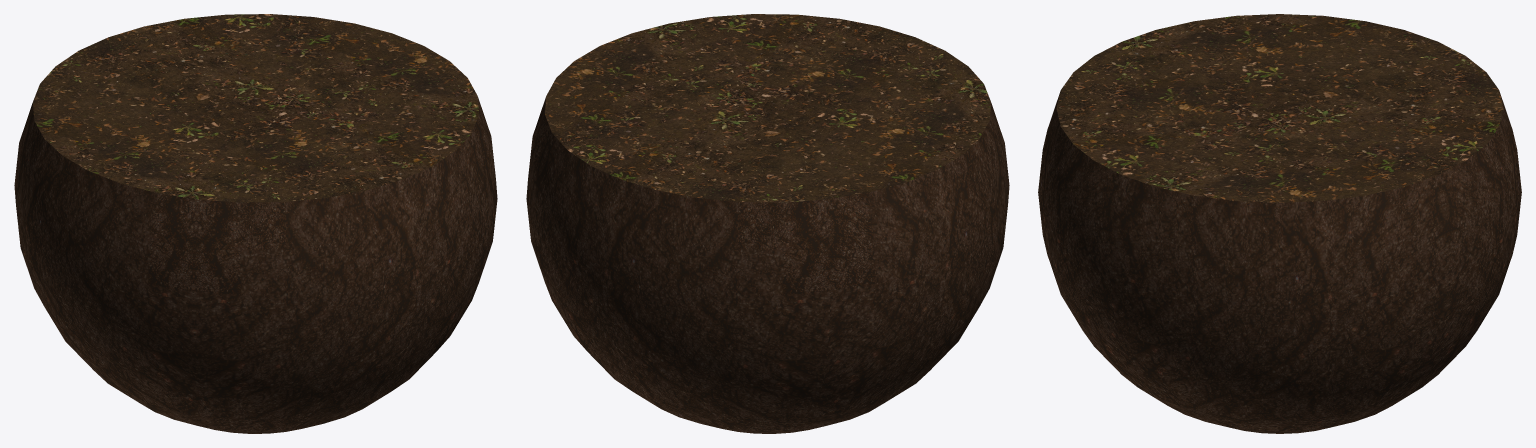
The model's file is BakedIsland.glb.
3 views of the same model, side by side, from view 1: azimuth 30°, elevation 25°; view 2: azimuth 150°, elevation 25°; view 3: azimuth 270°, elevation 25° (orthographic).
Parts seen in each view (by area): view 1: Sphere.001, Sphere; view 2: Sphere.001, Sphere; view 3: Sphere.001, Sphere.
Part boxes in pixels (<box>): Sphere.001: <box>14,96,497,433</box>; Sphere: <box>33,14,478,202</box>; Sphere.001: <box>526,96,1009,433</box>; Sphere: <box>545,14,990,202</box>; Sphere.001: <box>1038,92,1521,433</box>; Sphere: <box>1056,14,1503,202</box>.
Bounding box in the file's own units: 2 × 1.38 × 2.
2 materials, 2 textured.
